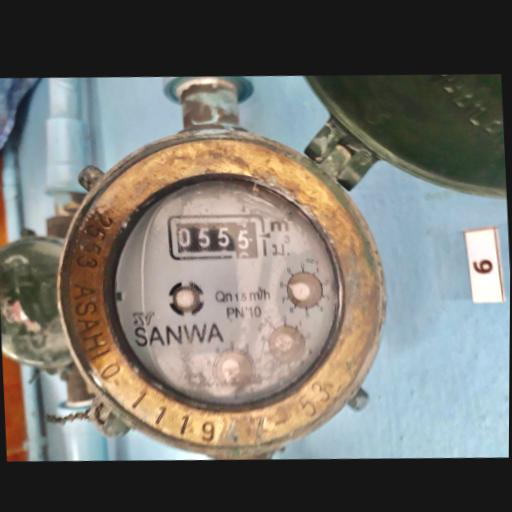0: (176, 221, 195, 252)
5: (233, 219, 258, 260), (192, 220, 215, 252), (212, 220, 235, 251)
border_water_meter_number: (167, 208, 267, 263)
